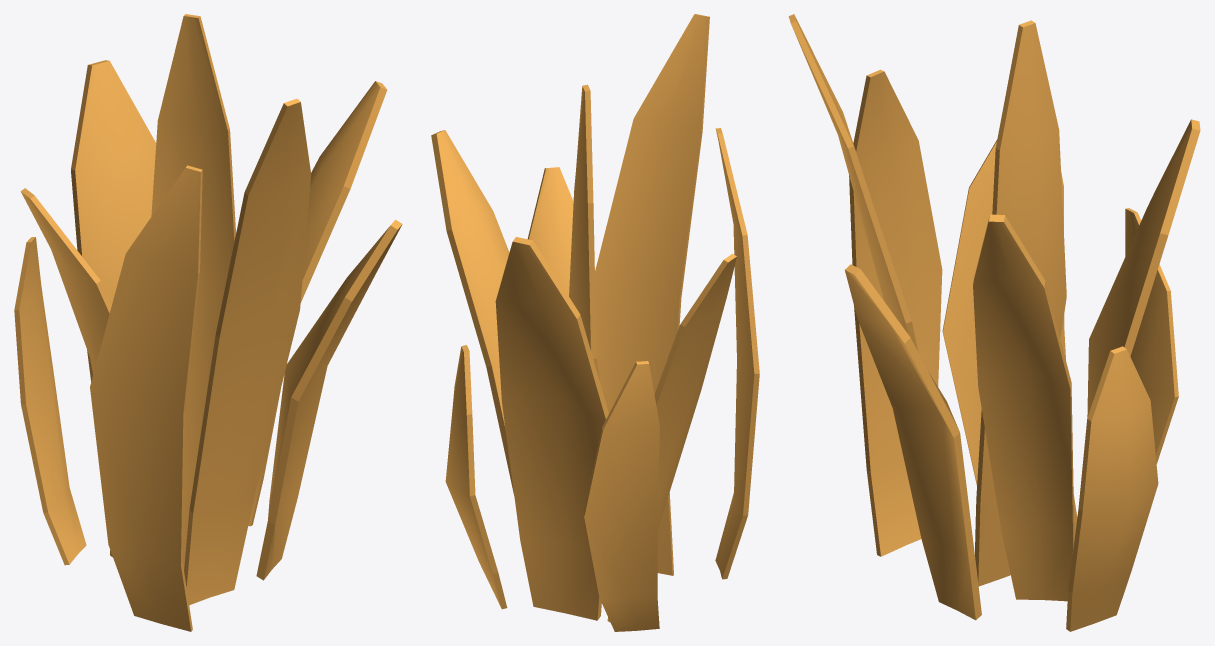
File: a_z2_grass_l.fbx
3 views of the same model, side by side, from view 1: azimuth 30°, elevation 25°; view 2: azimuth 150°, elevation 25°; view 3: azimuth 270°, elevation 25° (orthographic). The views are drawn at different scales.
Visible parts, largest first — view 1: a_z2_grass_l; view 2: a_z2_grass_l; view 3: a_z2_grass_l.
Part boxes in pixels (x1,y1,x2,y2): a_z2_grass_l: [14, 14, 402, 631]; a_z2_grass_l: [431, 14, 759, 631]; a_z2_grass_l: [788, 14, 1200, 631].
Size of the model in its own units: 66.86 by 102 by 67.05.
